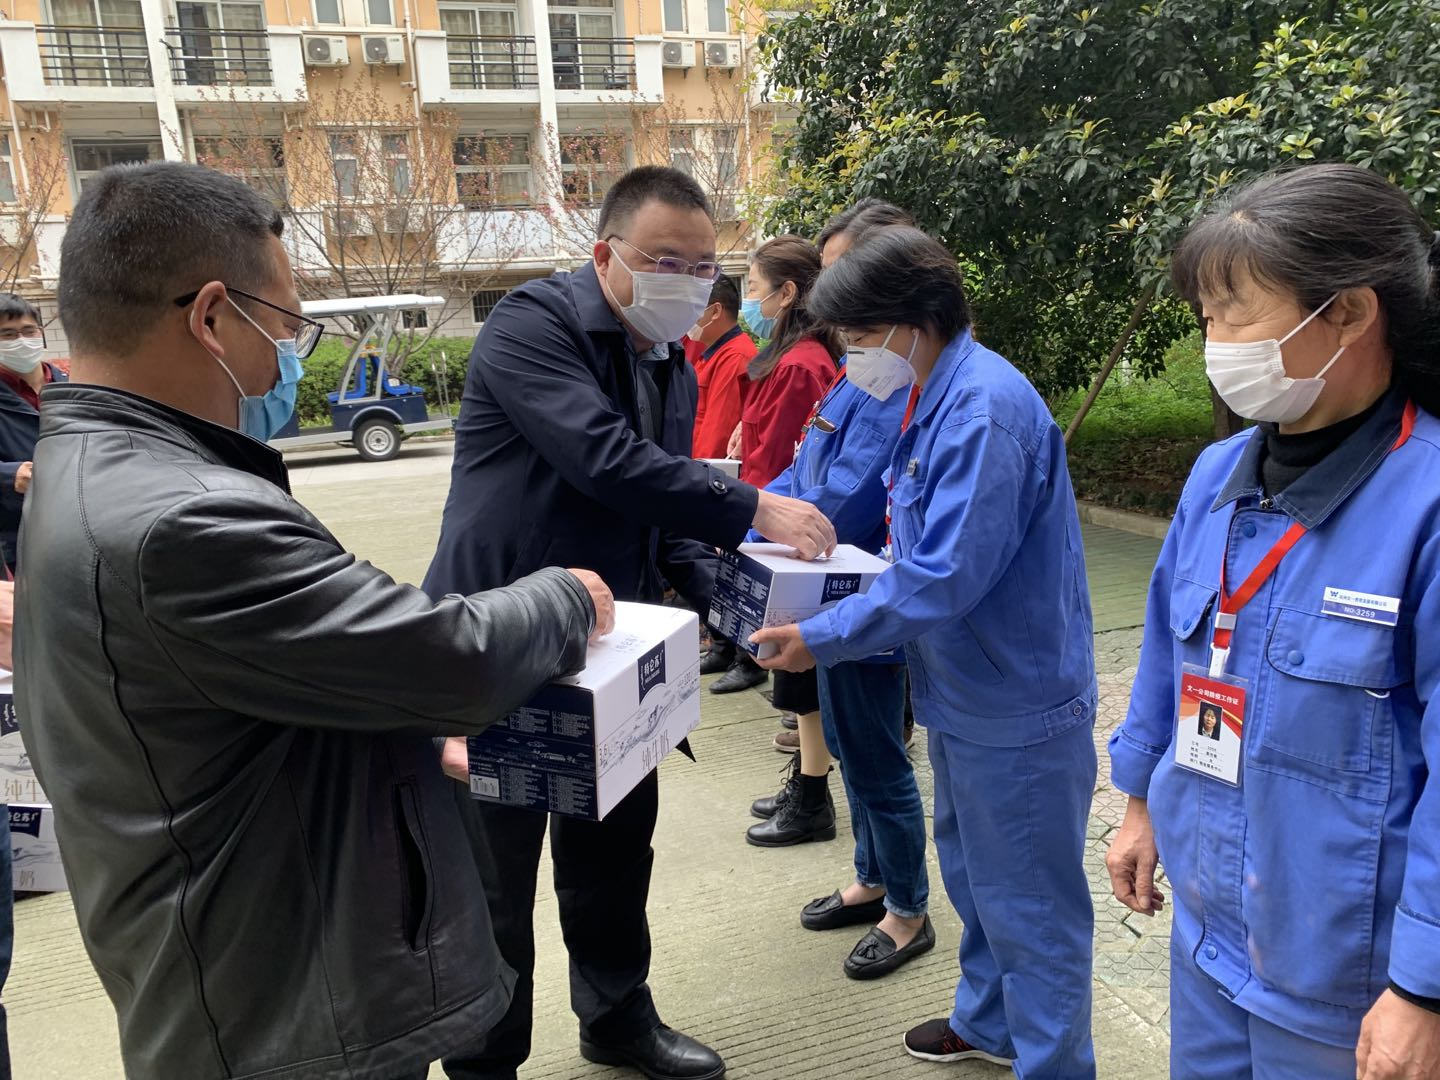correctlyWear: (1195, 275, 1354, 431), (246, 230, 333, 442), (615, 210, 732, 351), (838, 318, 929, 406), (740, 267, 797, 346), (1, 310, 48, 373)
